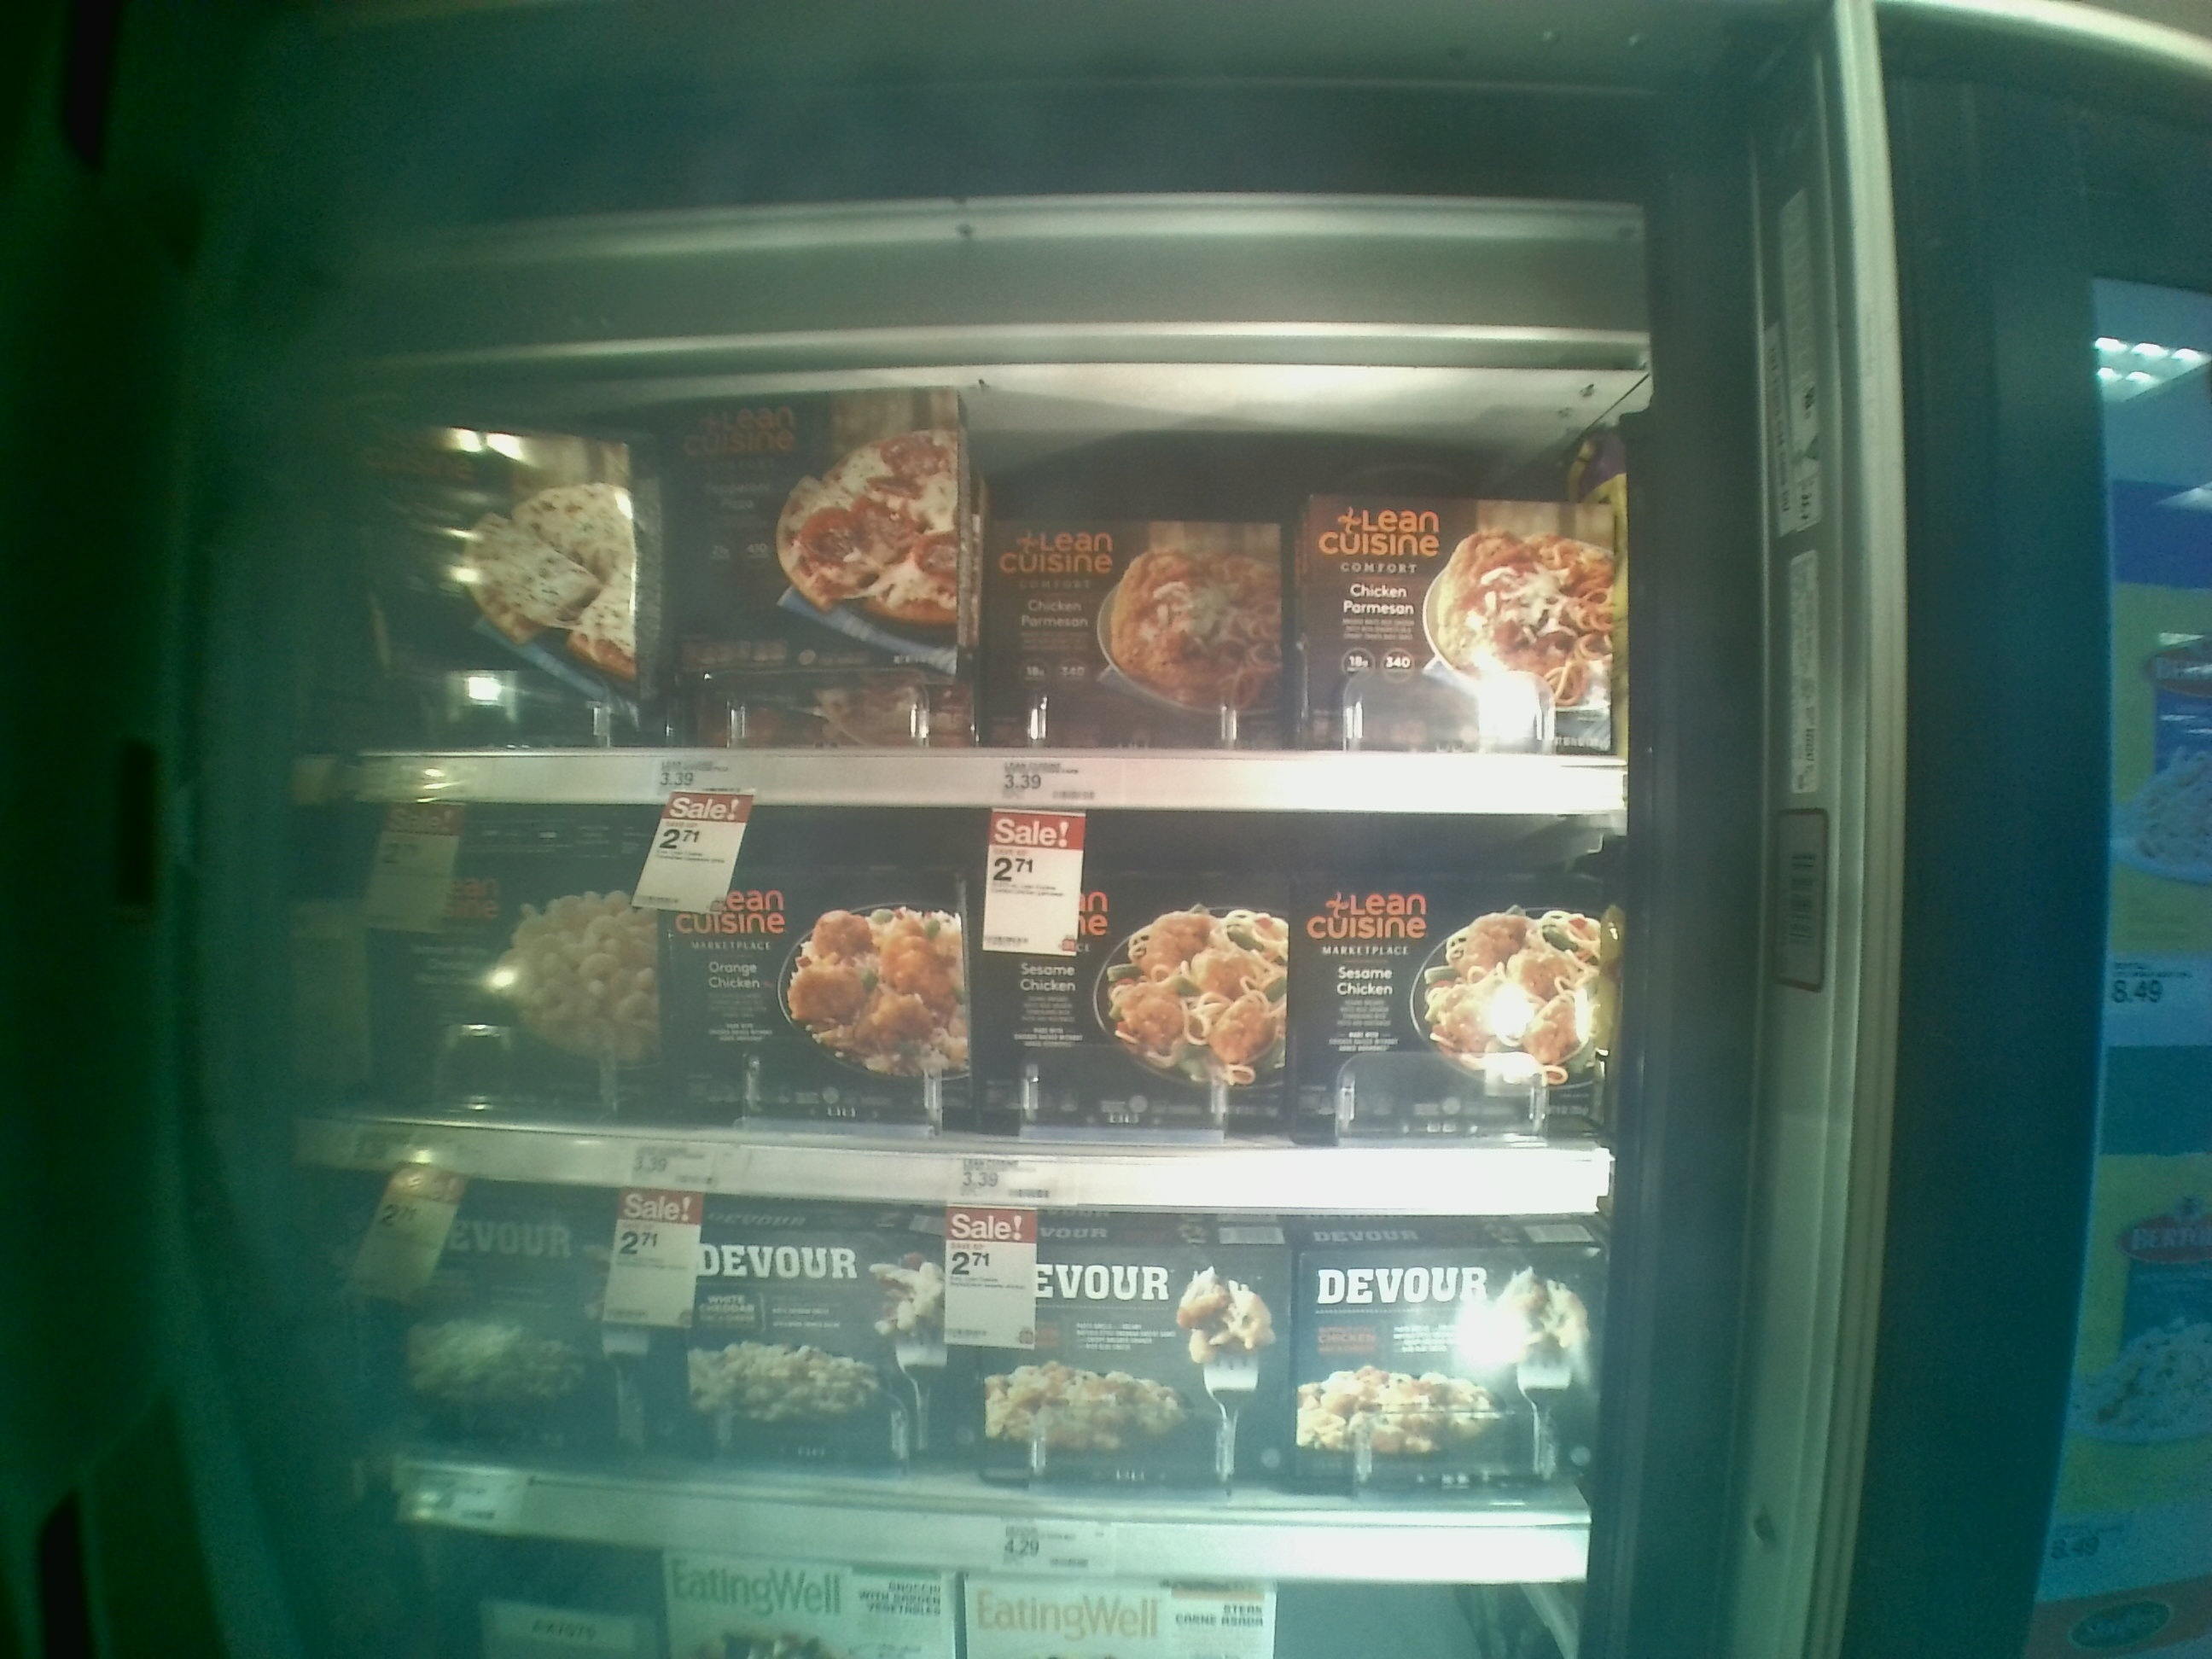shelf: (315, 1171, 1606, 1589), (308, 793, 1609, 1206)
